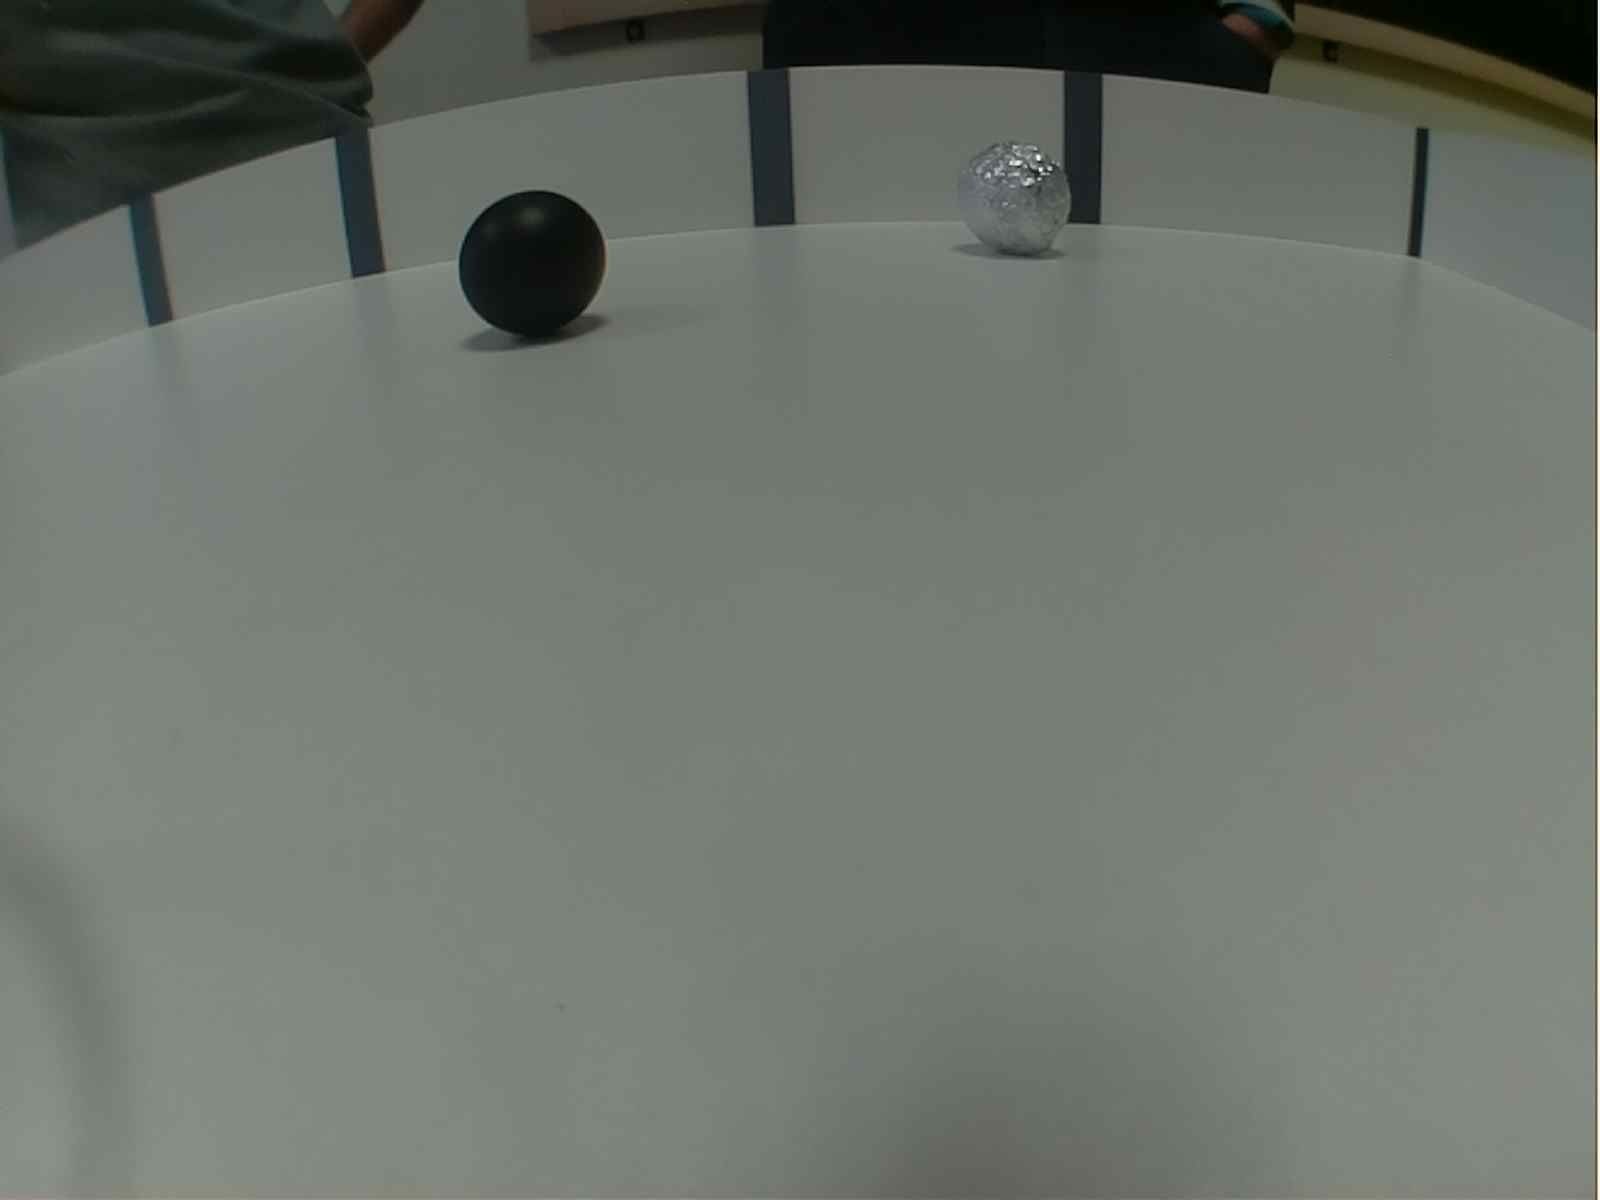bianca: (945, 136, 1080, 263)
nera: (443, 189, 615, 345)
